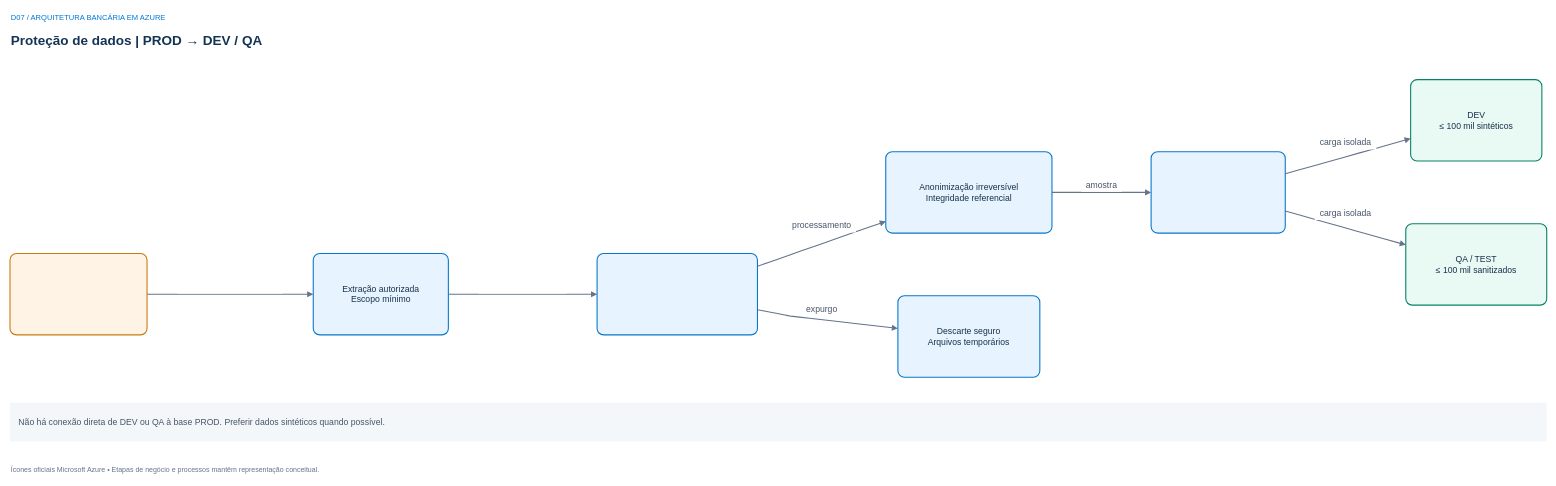
This 1556x486 diagram has some shape labels left out. Here are the shapes that lost their labels. From the top down, the box of each, then its label:
(1150, 151, 1286, 233): Validação LGPD Sem reidentificação
(9, 253, 147, 335): PROD 7 milhões (hipótese)
(177, 279, 283, 293): somente fluxo controlado
(478, 279, 566, 293): transferência segura
(596, 253, 758, 335): Área isolada temporária Criptografada e auditada
